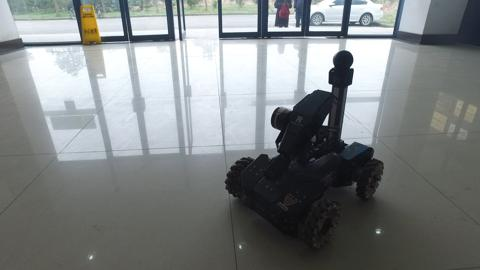car: (291, 1, 386, 27)
chariot: (223, 48, 385, 251)
